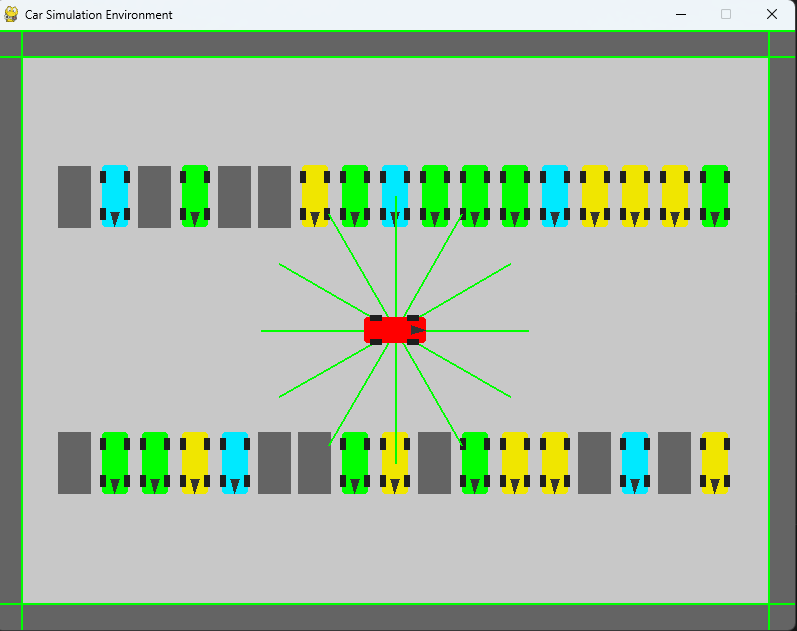ControlledCar: (360, 308, 433, 350)
ParkedCar: (697, 162, 737, 230), (657, 157, 694, 228), (615, 427, 653, 496), (577, 159, 613, 231), (376, 158, 413, 228), (416, 160, 453, 230), (137, 425, 172, 498), (297, 161, 333, 231), (498, 161, 534, 229), (457, 163, 492, 231), (99, 430, 133, 500), (496, 428, 530, 497), (539, 429, 573, 497), (538, 161, 571, 231), (178, 427, 211, 496), (698, 429, 733, 494), (619, 164, 652, 231), (340, 162, 371, 230), (180, 162, 210, 230), (221, 427, 251, 495), (341, 427, 370, 497), (458, 429, 488, 496), (381, 429, 409, 498), (100, 164, 130, 227)
ParkingSpot: (575, 424, 613, 498), (52, 162, 92, 231), (296, 426, 333, 500), (254, 428, 293, 497), (655, 427, 693, 496), (215, 161, 252, 231), (54, 429, 93, 494), (135, 161, 171, 231), (258, 161, 291, 231), (417, 429, 452, 495)
